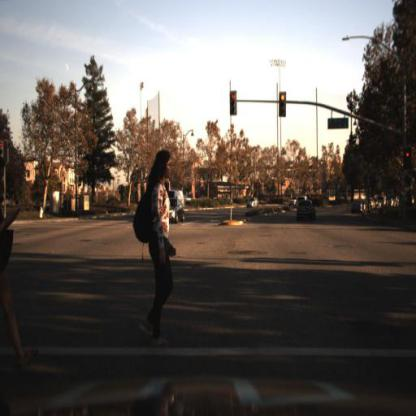car: (157, 198, 188, 227), (294, 196, 321, 224), (161, 189, 186, 214)
pedestrian: (124, 144, 178, 351), (1, 146, 37, 381)
trafficLight-Red: (277, 88, 288, 122), (403, 146, 415, 174)
trafficLight-RedLeft: (229, 88, 239, 119)
